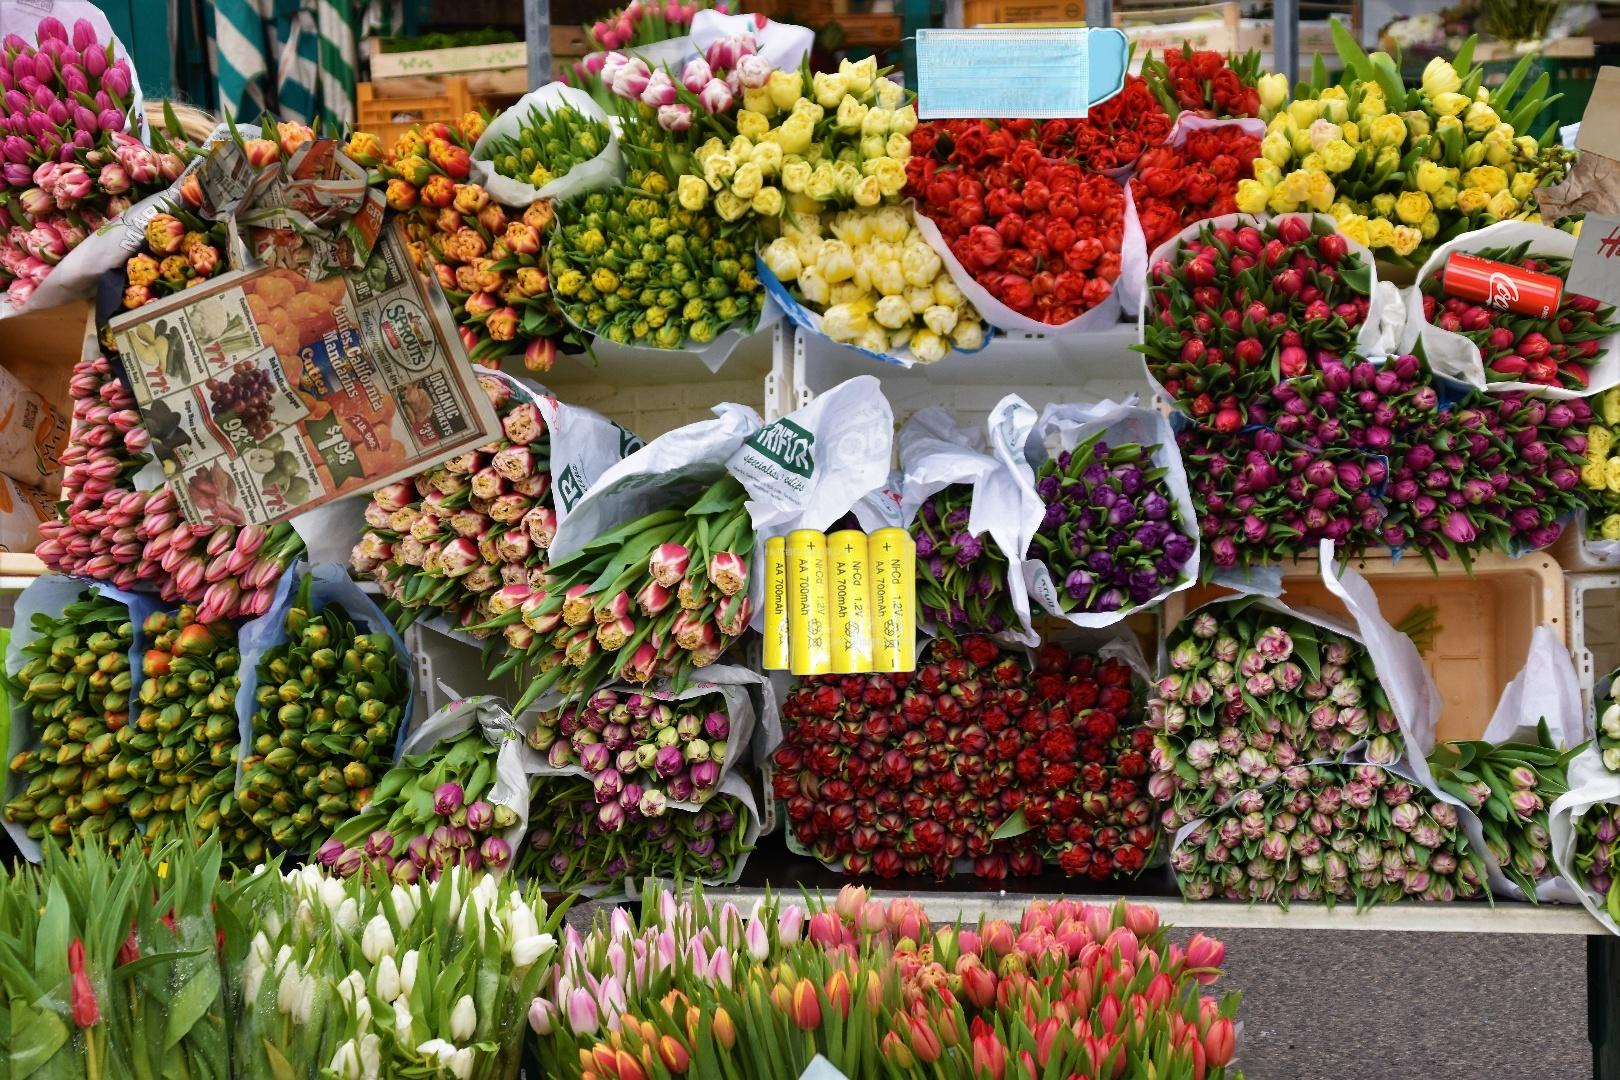battery: (759, 524, 921, 675)
metal-cans: (1270, 245, 1568, 736)
paper: (102, 141, 509, 526), (687, 969, 1076, 1080)
paper-bag: (1530, 64, 1620, 319)
trash: (870, 23, 1129, 122)
